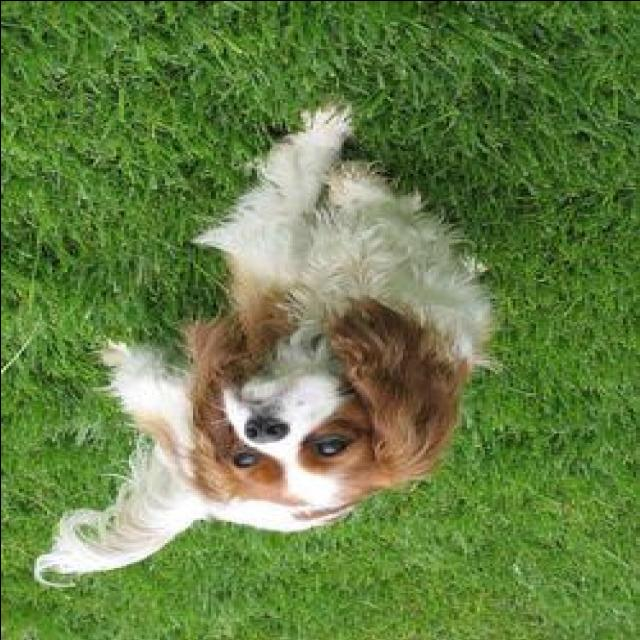blenheim_spaniel: (26, 94, 510, 592)
